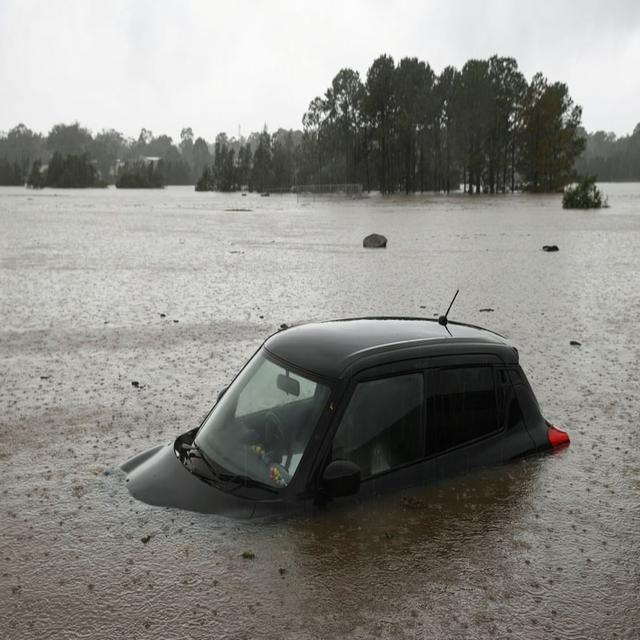Car-RiskLevel3: (112, 282, 573, 525)
